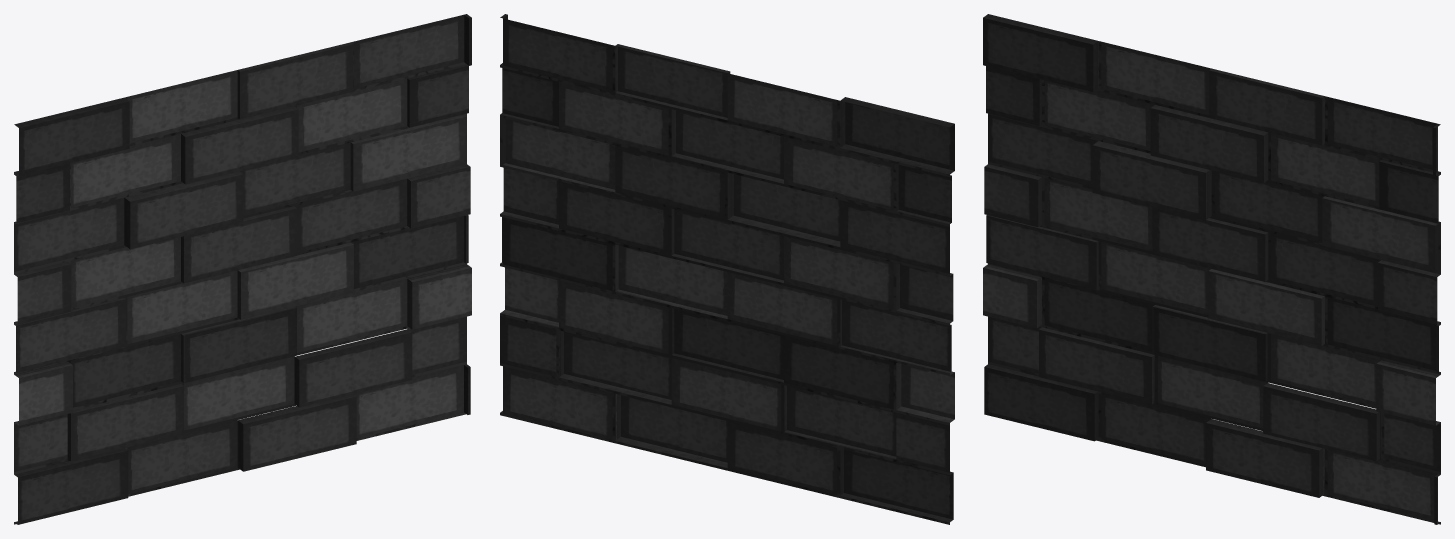
The model's file is Wall_A_Full.fbx.
3 renders of one model, left to right at view 1: azimuth 30°, elevation 25°; view 2: azimuth 150°, elevation 25°; view 3: azimuth 330°, elevation 25°, orthographic.
Visible parts, largest first — view 1: Wall_A; view 2: Wall_A; view 3: Wall_A.
Boxes of the visible parts, <box> form: Wall_A: <box>14,14,471,524</box>; Wall_A: <box>500,14,954,524</box>; Wall_A: <box>983,14,1440,524</box>.
Size of the model in its own units: 9905 by 8366 by 221.
1 material, 1 textured.
